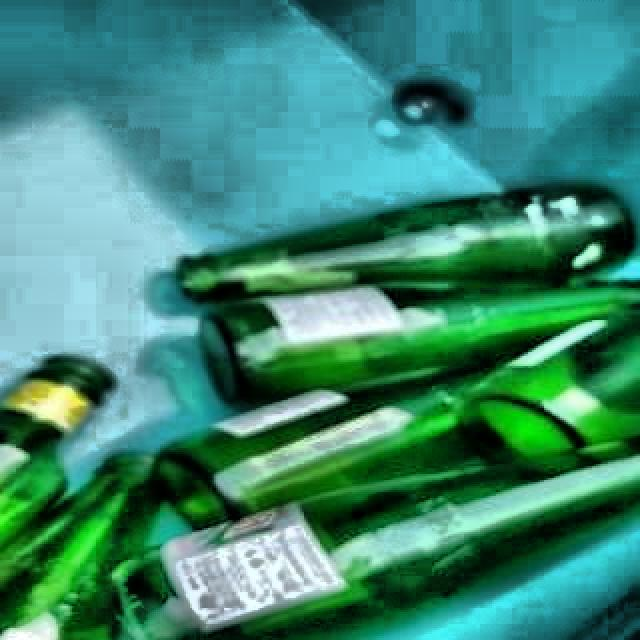glass: (0, 185, 640, 640)
